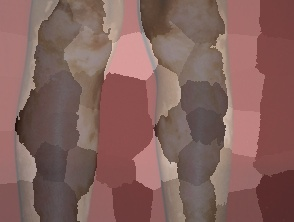vitiligo: (0, 0, 128, 222), (136, 0, 246, 222)
